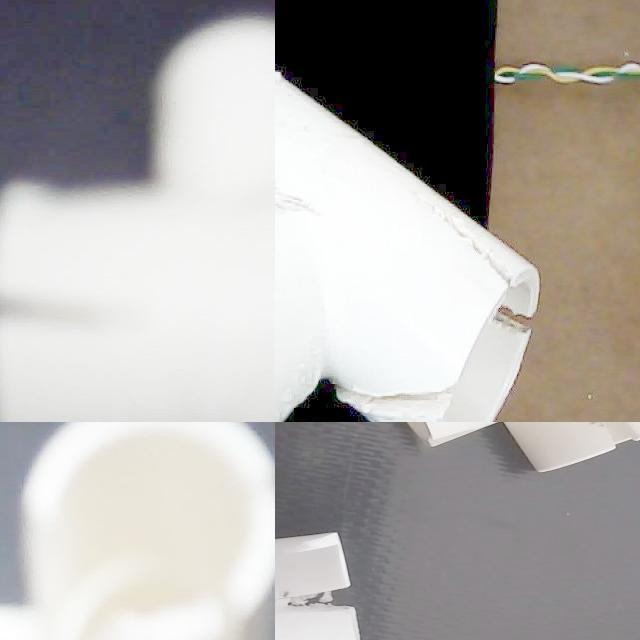Defective: (403, 169, 533, 340), (23, 490, 134, 640), (326, 352, 463, 422), (0, 281, 93, 345), (186, 575, 243, 640), (275, 594, 370, 624), (248, 455, 275, 557), (566, 422, 640, 459)
L Joint: (404, 422, 640, 474)
T Joint: (0, 24, 275, 422), (275, 72, 541, 422), (0, 422, 275, 640)
